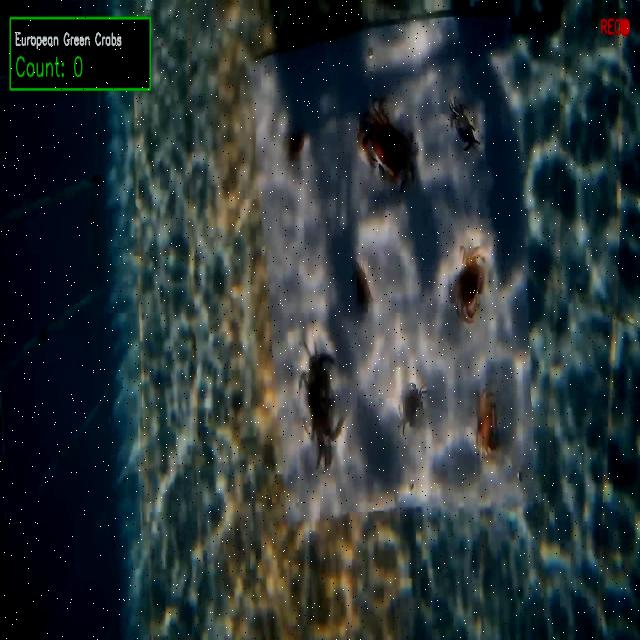European_Green_Crab: (287, 330, 349, 478), (440, 82, 489, 166), (390, 371, 431, 444)
